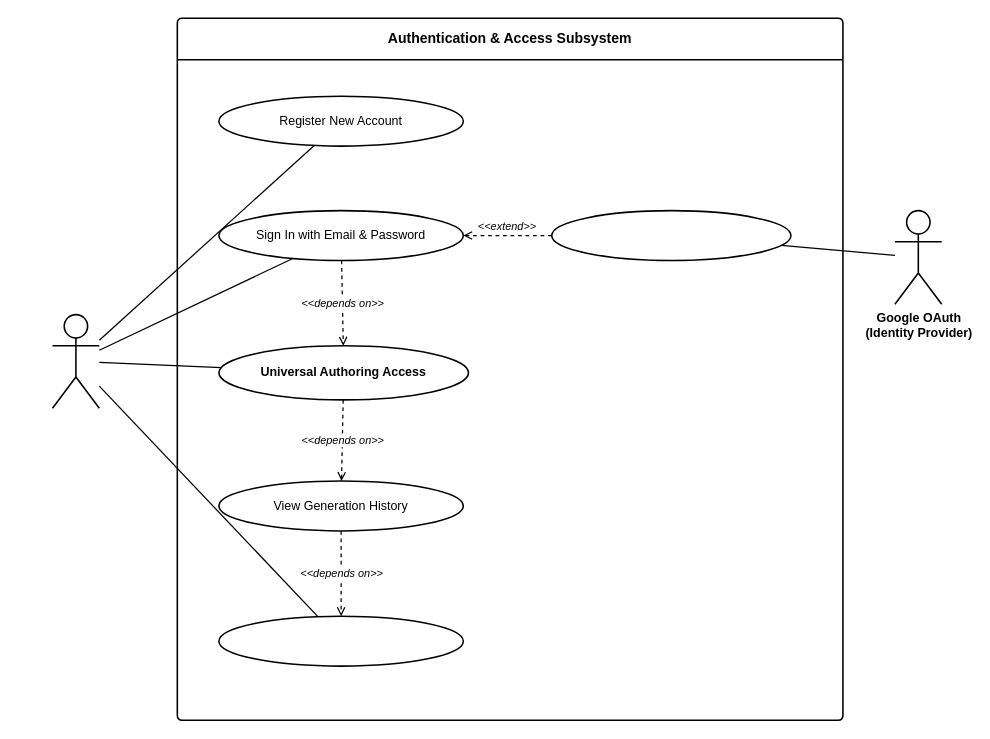
The diagram is 990 pixels wide and 739 high, and some of its shapes have lost their labels. The shapes that lost their labels are listed below. From the top down, each one's centre as x and y in pixels, then its label:
At [670,235]: "Sign In with Google OAuth".
At [75,361]: "User (Instructor/Student)".
At [341,640]: "Sign Out of System".
